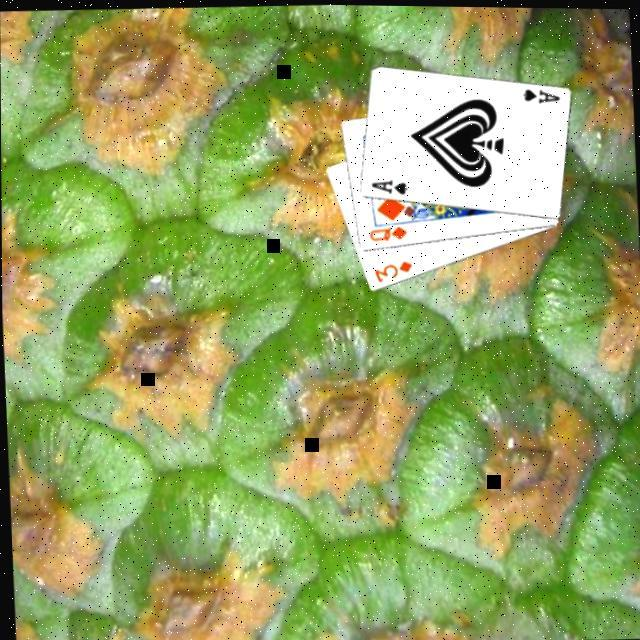3D: (371, 258, 416, 286)
AS: (368, 176, 412, 198), (520, 85, 564, 107)
QD: (366, 222, 412, 245)
